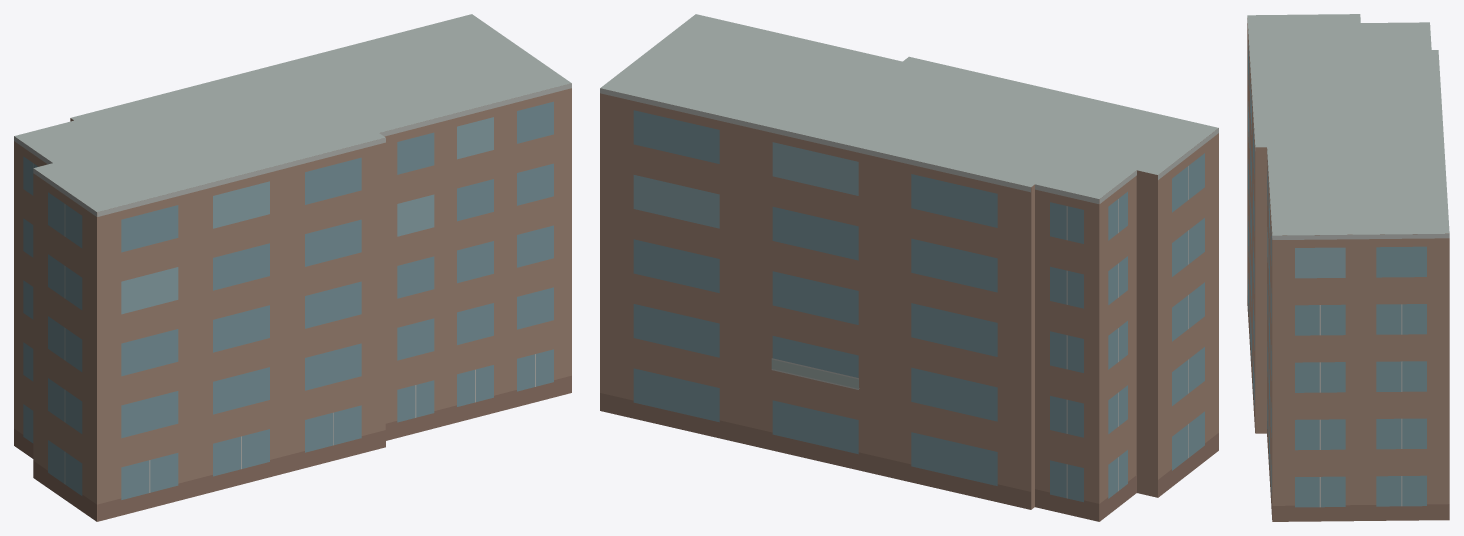
File: survey-upis-32727188.glb
The picture shows the model from 3 angles, left to right: view 1: azimuth 30°, elevation 25°; view 2: azimuth 150°, elevation 25°; view 3: azimuth 270°, elevation 25°; orthographic projection. The views are drawn at different scales.
Parts seen in each view (by area): view 1: survey-upis-32727188.tmp; view 2: survey-upis-32727188.tmp; view 3: survey-upis-32727188.tmp.
Part boxes in pixels (box(x1,y1,x2,y2)): survey-upis-32727188.tmp: box(14, 14, 571, 521); survey-upis-32727188.tmp: box(600, 14, 1218, 521); survey-upis-32727188.tmp: box(1247, 14, 1449, 521).
Bounding box in the file's own units: 25.31 × 15.25 × 9.78.
